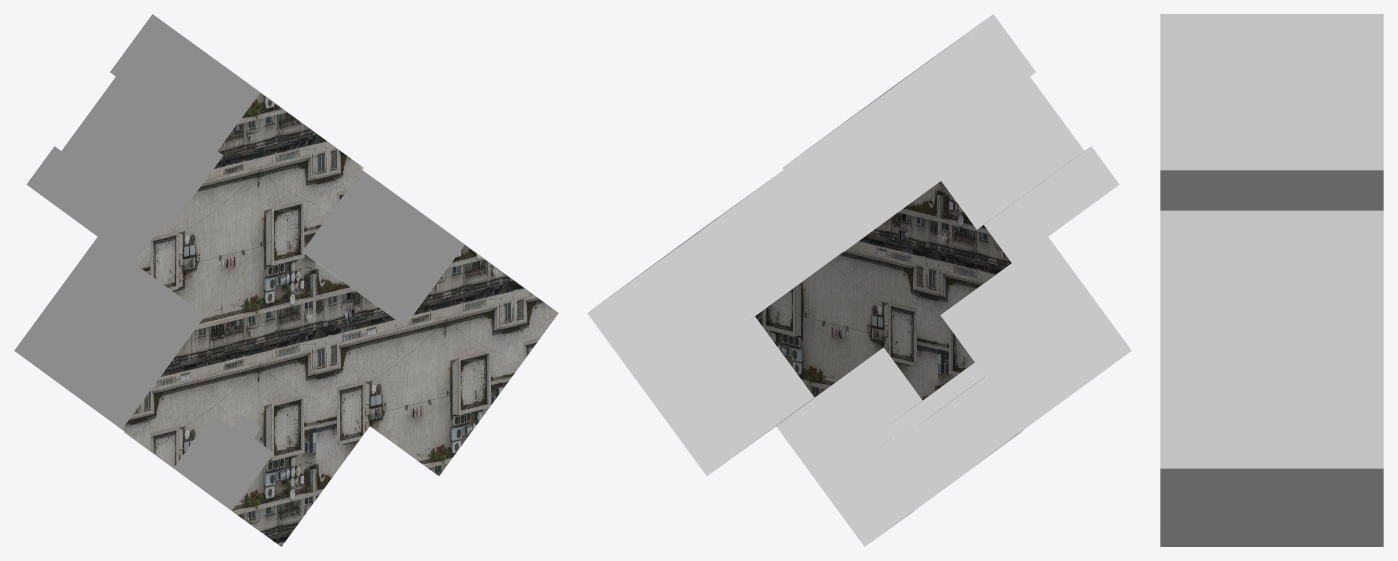
File: geospecific_1591.obj
The picture shows the model from 3 angles, left to right: view 1: azimuth 30°, elevation 25°; view 2: azimuth 150°, elevation 25°; view 3: azimuth 270°, elevation 25°; orthographic projection. The views are drawn at different scales.
Visible parts, largest first — view 1: Building; view 2: Building; view 3: Building.
Boxes of the visible parts, x1,y1,x2,y2 form: Building: (14,14,558,546); Building: (587,14,1131,546); Building: (1160,14,1383,546).
Size of the model in its own units: 42.18 by 42.37 by 18.
